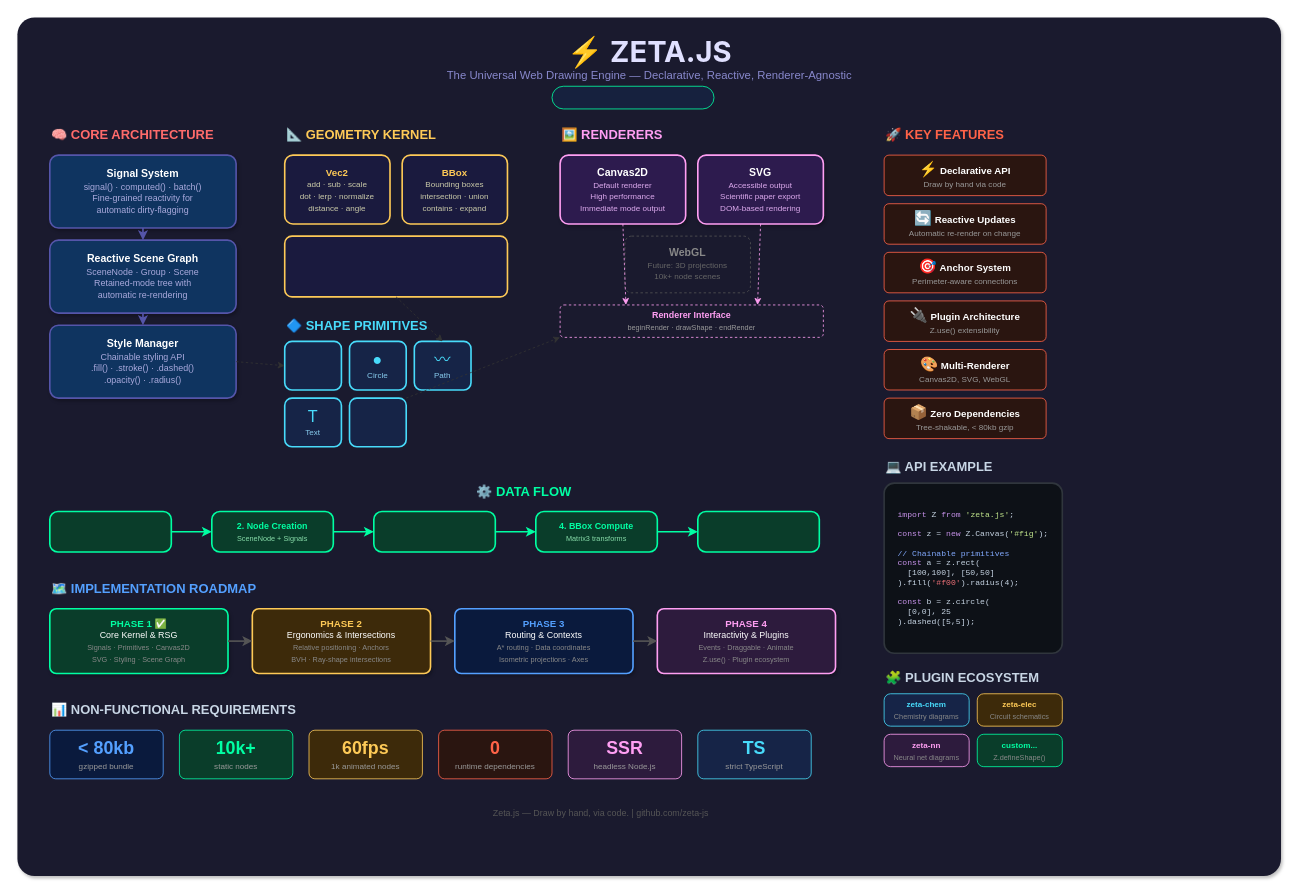
Some shapes in this 1299 by 895 pixel diagram are drawn without their labels. Each missing label, with the centre of its shape:
1. API Call z.rect() / z.circle(): (110,531)
3. Scene Graph Tree insert + dirty flag: (434,531)
5. Render Canvas2D / SVG output: (758,531)
Matrix3 3x3 affine transforms translate · rotate · scale multiply · invert: (396,266)
v0.1.0 · TypeScript · MIT: (632,97)
╱ Line: (377,422)
▬ Rect: (313,365)
